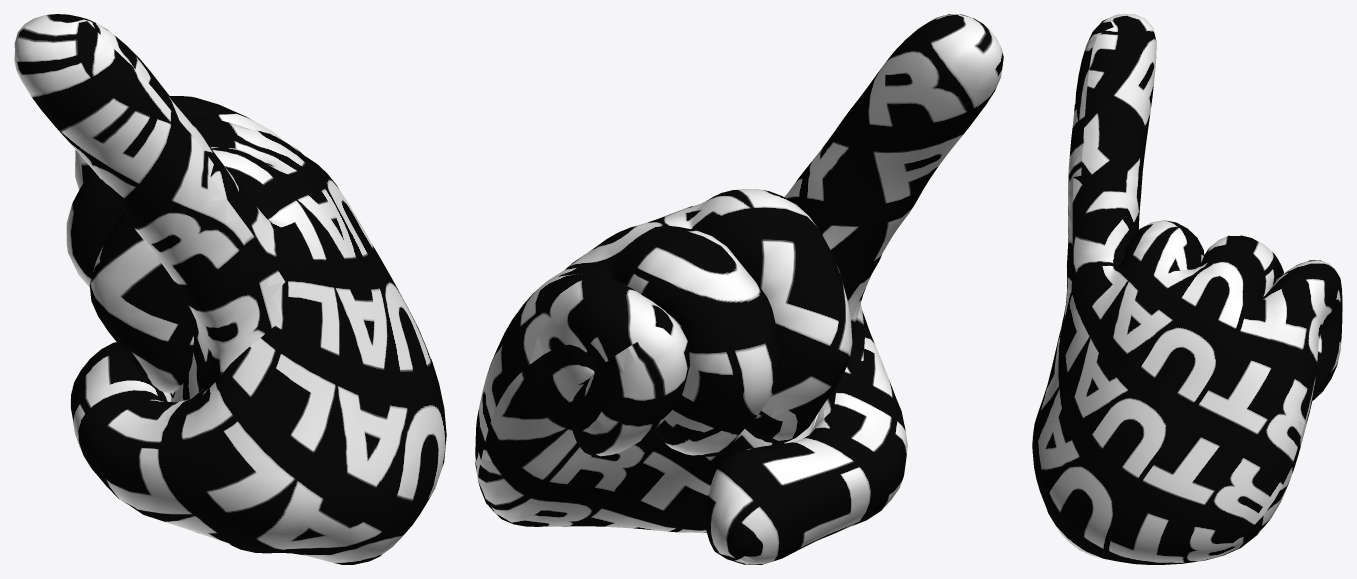
The model's file is Pointing_UP.obj.
The picture shows the model from 3 angles, left to right: view 1: azimuth 30°, elevation 25°; view 2: azimuth 150°, elevation 25°; view 3: azimuth 270°, elevation 25°; orthographic projection. The views are drawn at different scales.
Visible parts, largest first — view 1: Group17248; view 2: Group17248; view 3: Group17248.
Boxes of the visible parts, x1,y1,x2,y2 form: Group17248: [14, 14, 446, 564]; Group17248: [475, 14, 1003, 564]; Group17248: [1032, 14, 1342, 564].
Size of the model in its own units: 11.23 by 14.07 by 9.1.
